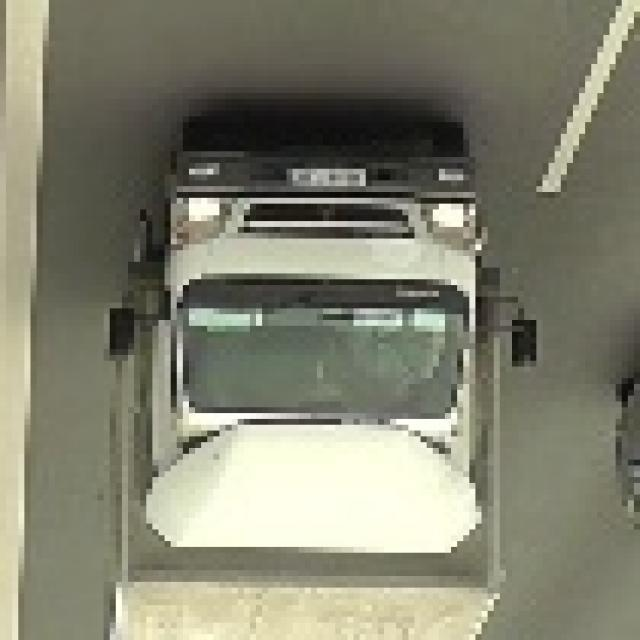Truck: (116, 128, 536, 640)
